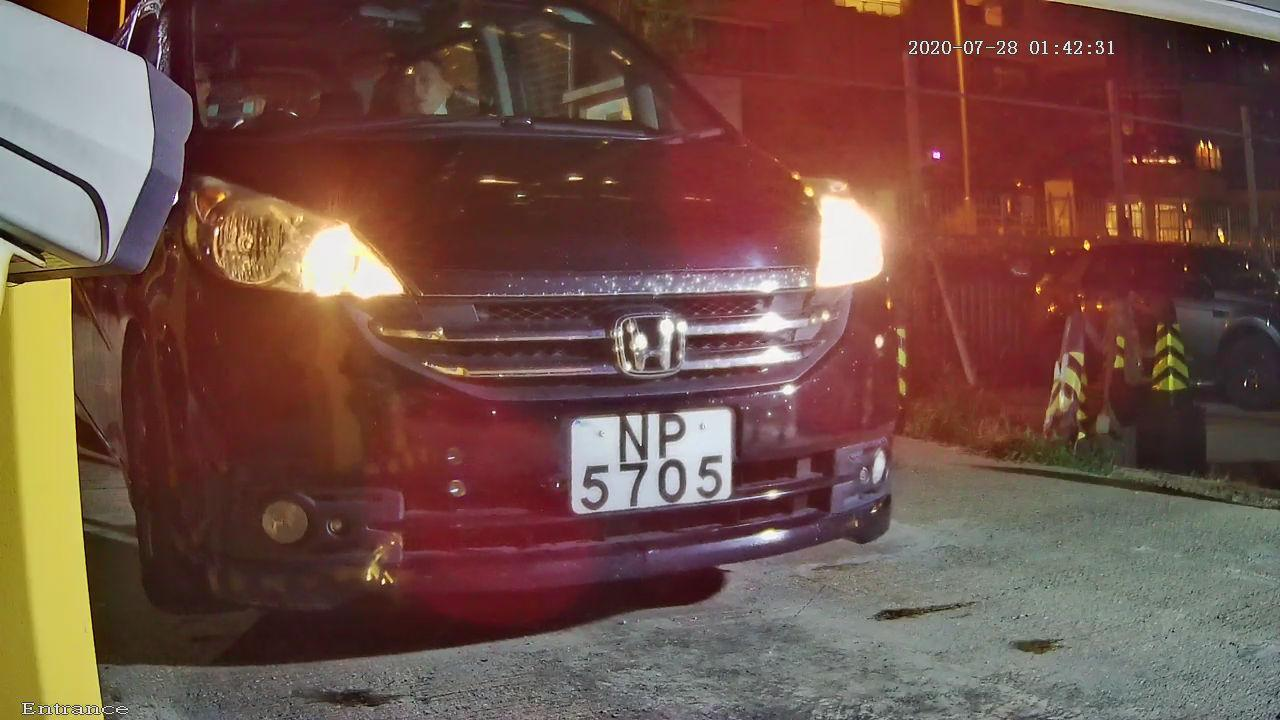privatecar: (29, 10, 1023, 656)
